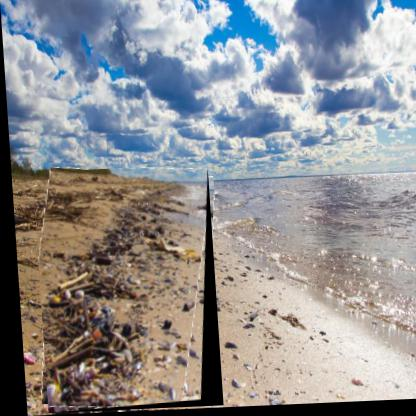Garbage: (31, 167, 220, 415)
